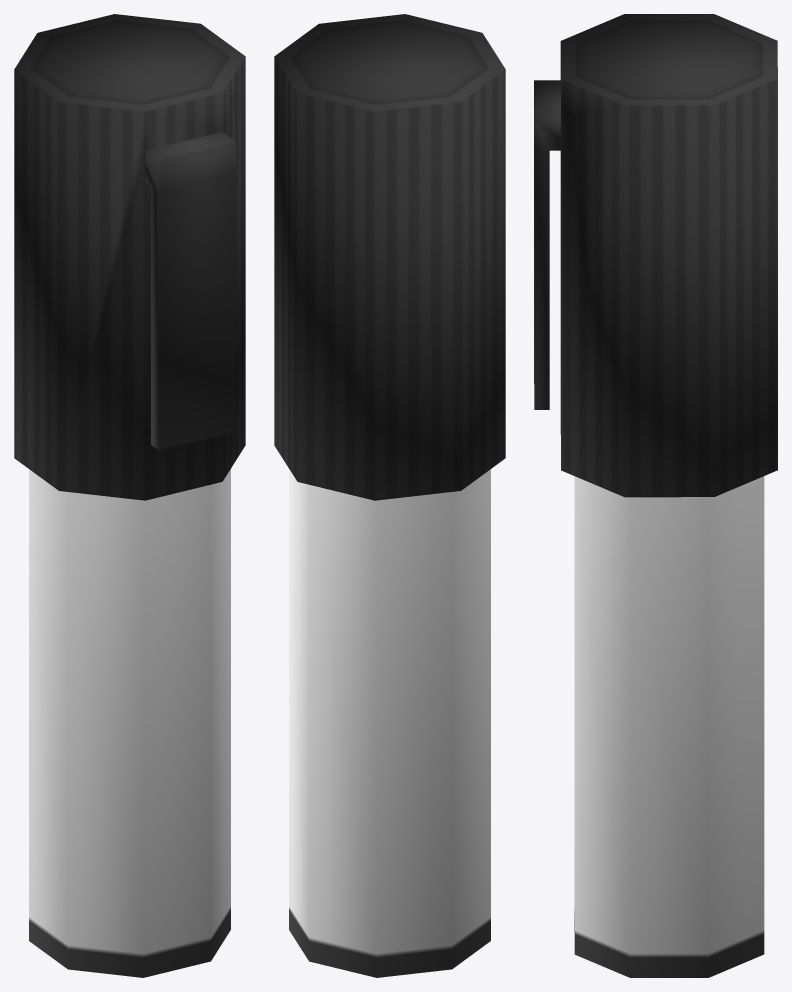
The model's file is ENV2010101.fbx.
3 views of the same model, side by side, from view 1: azimuth 30°, elevation 25°; view 2: azimuth 150°, elevation 25°; view 3: azimuth 270°, elevation 25° (orthographic).
Parts seen in each view (by area): view 1: smENV2010101; view 2: smENV2010101; view 3: smENV2010101.
Boxes of the visible parts, x1,y1,x2,y2 form: smENV2010101: (14, 14, 245, 977); smENV2010101: (274, 14, 505, 977); smENV2010101: (534, 14, 777, 977).
Size of the model in its own units: 3.11 by 13.9 by 3.5.
1 material, 1 textured.
